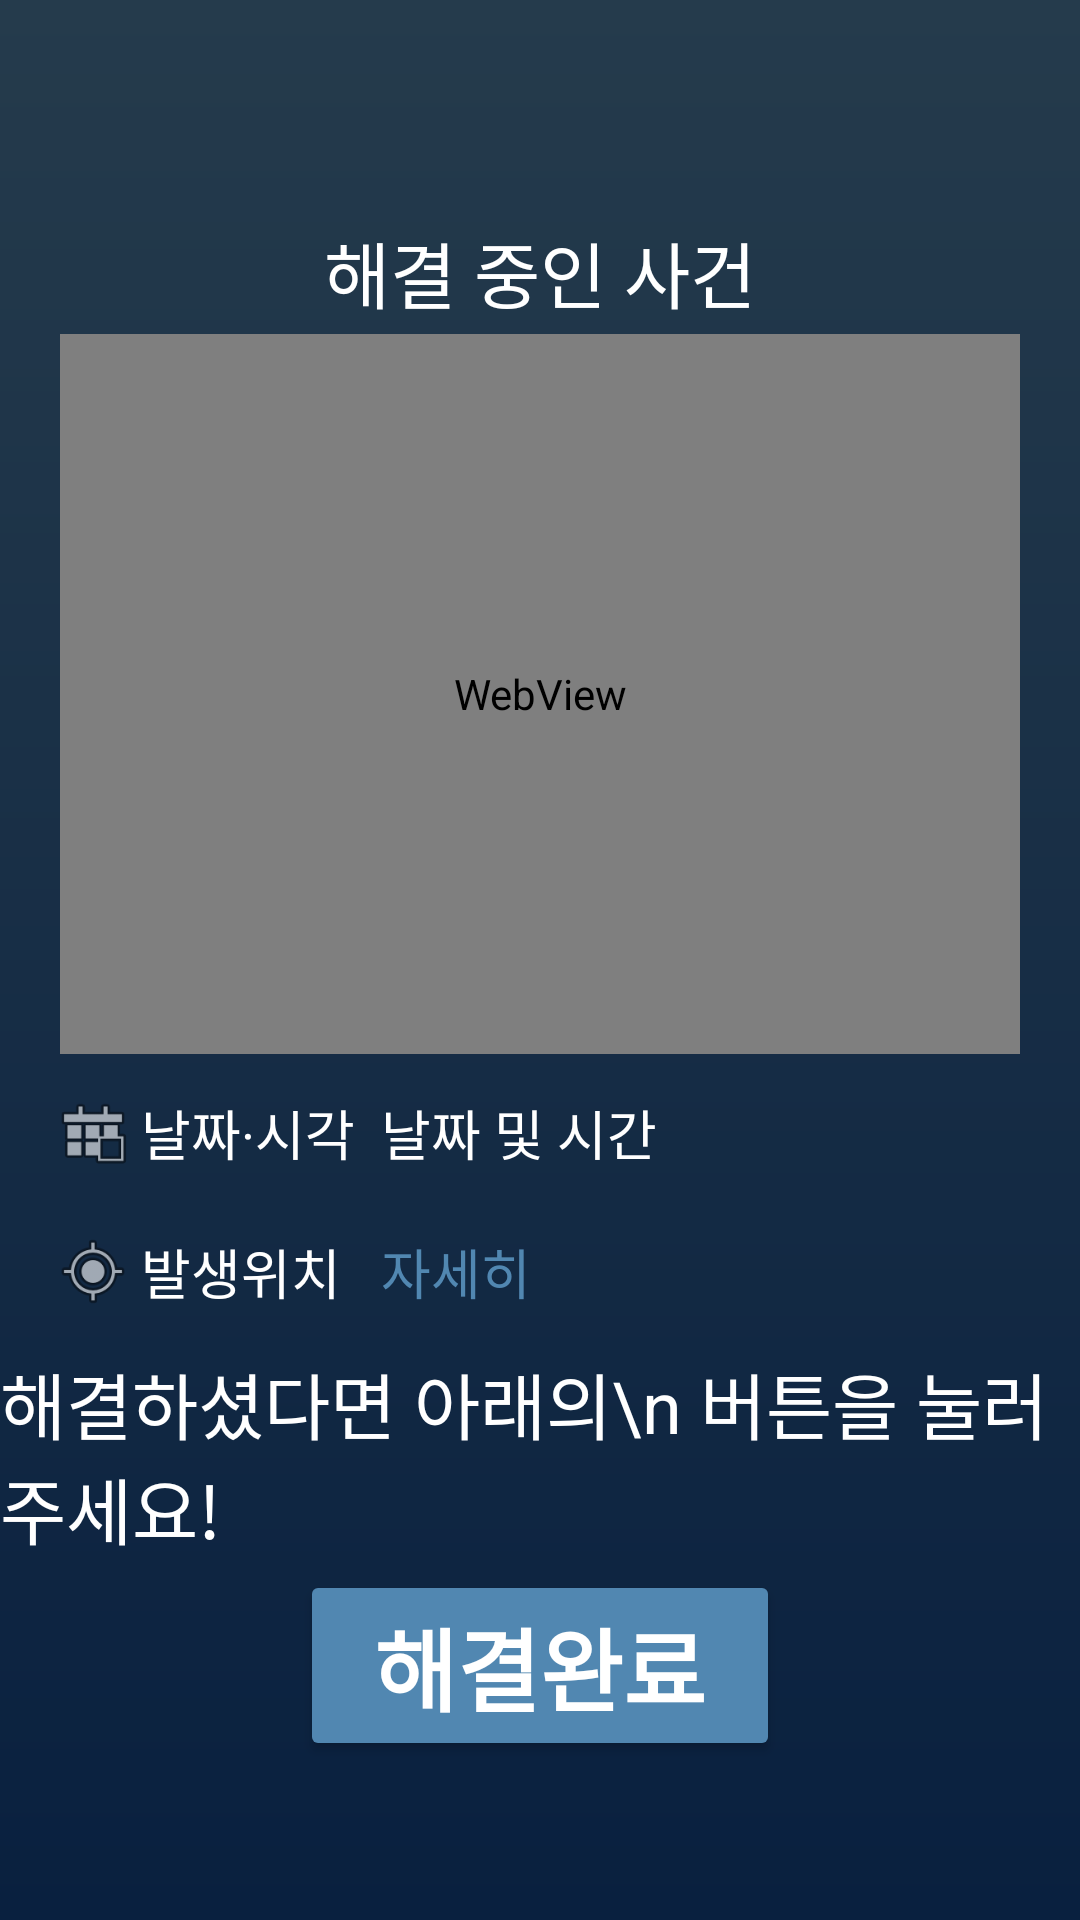

Named icons in this screenshot (1080 × 1920) and their centers, (x,y):
발생날짜: (94,1134)
